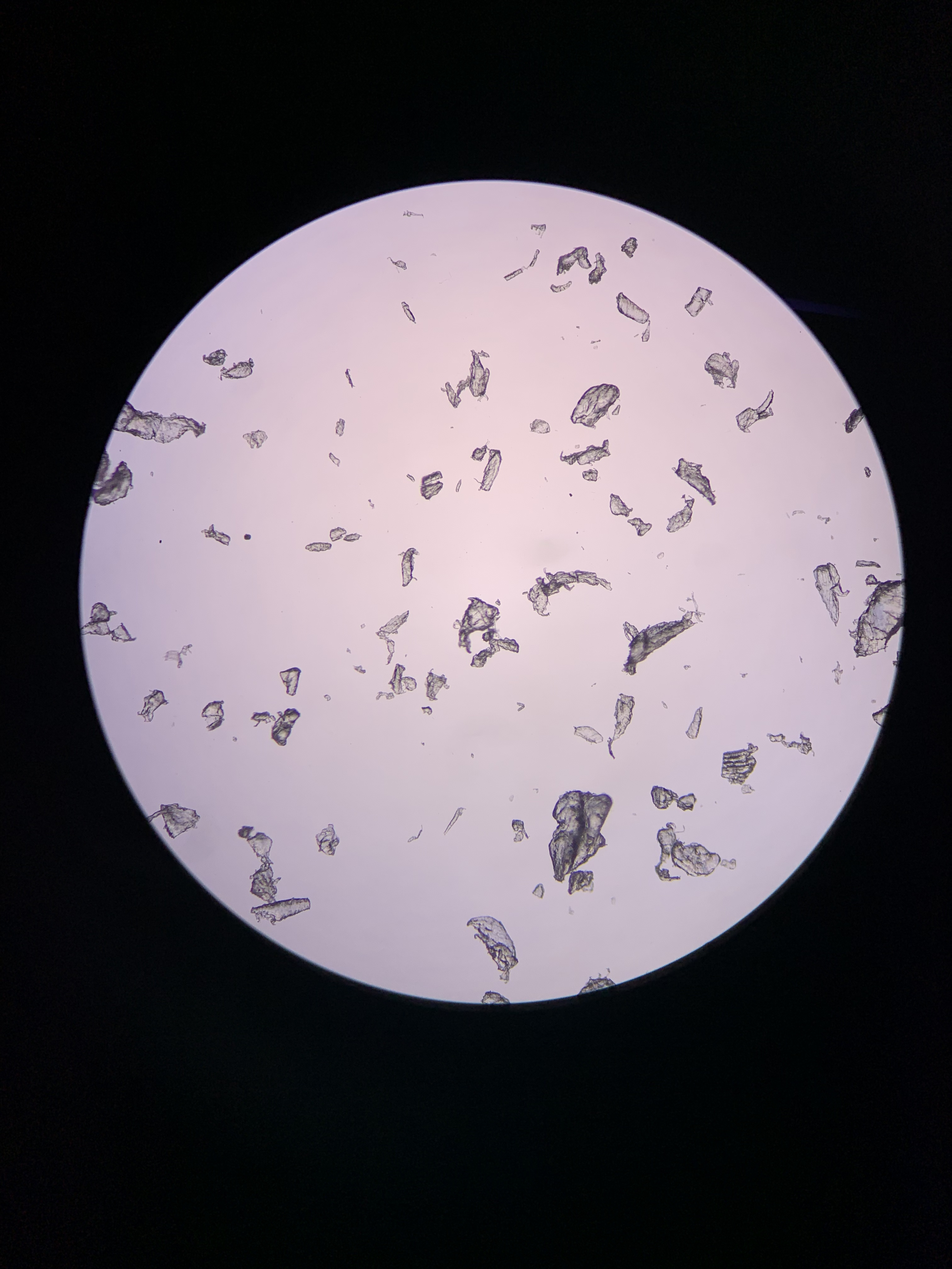microplastic: (329, 289, 679, 1018)
